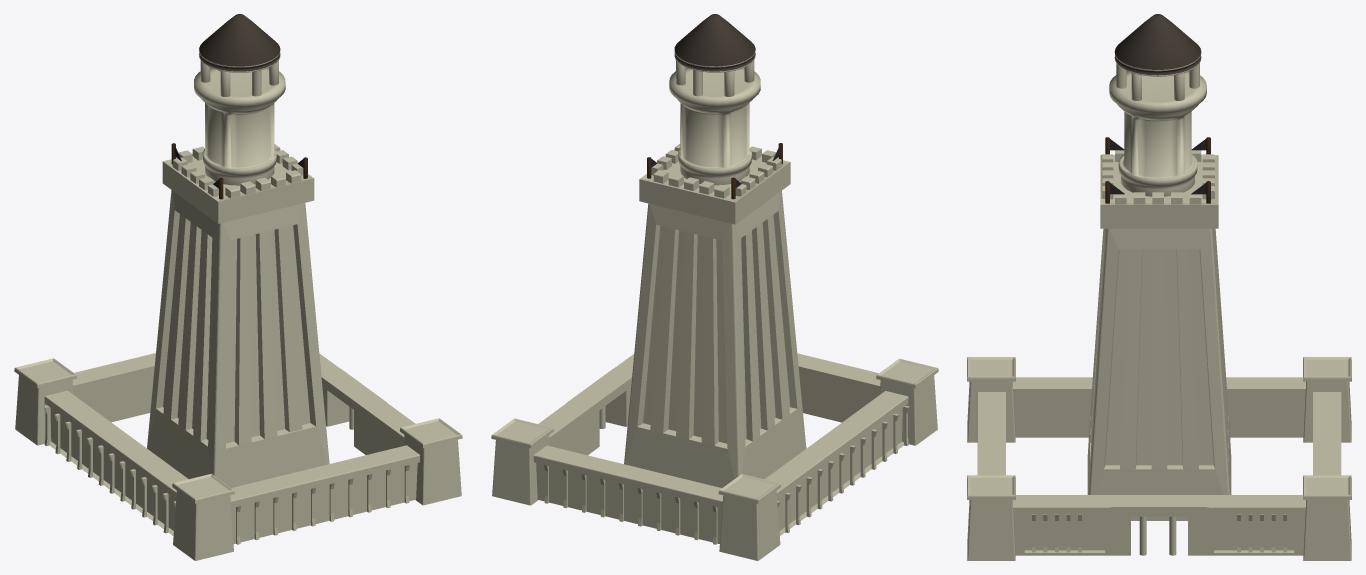
The model's file is FarolAlexandria7.fbx.
3 views of the same model, side by side, from view 1: azimuth 30°, elevation 25°; view 2: azimuth 150°, elevation 25°; view 3: azimuth 270°, elevation 25° (orthographic). The views are drawn at different scales.
Parts seen in each view (by area): view 1: Cube.008, Cube.003, Cube.002, Cylinder, Cube.004, Cube.001, Cylinder.002, Cube.007, Cube.005, Cylinder.003; view 2: Cube.008, Cube.003, Cube.002, Cylinder, Cube.004, Cube.001, Cylinder.002, Cube.007, Cube.005, Cylinder.003; view 3: Cube.008, Cube.001, Cube.002, Cube.004, Cylinder, Cube.003, Cylinder.002, Cube.006, Cylinder.004, Cylinder.003.
Part boxes in pixels (x1,y1,x2,y2): Cube.008: (147,144,329,487); Cube.003: (72,353,419,543); Cube.002: (14,358,462,560); Cylinder: (194,67,285,185); Cube.004: (44,390,188,535); Cube.001: (319,353,415,454); Cylinder.002: (199,14,280,72); Cube.007: (44,405,175,533); Cube.005: (236,465,409,544); Cylinder.003: (200,60,278,96); Cube.008: (624,144,806,487); Cube.003: (533,353,880,543); Cube.002: (491,358,938,560); Cylinder: (669,67,760,185); Cube.004: (765,391,908,535); Cube.001: (538,354,634,455); Cylinder.002: (674,14,755,72); Cube.007: (777,405,909,532); Cube.005: (544,465,717,544); Cylinder.003: (676,60,754,96); Cube.008: (1087,150,1231,520); Cube.001: (1013,495,1305,555); Cube.002: (967,357,1351,560); Cube.004: (1013,377,1305,437); Cylinder: (1109,71,1206,196); Cube.003: (977,392,1341,475); Cylinder.002: (1114,14,1201,76); Cube.006: (1032,514,1286,552); Cylinder.004: (1139,516,1176,555); Cylinder.003: (1131,73,1184,100).
Size of the model in its own units: 2314 by 3694 by 2708.
